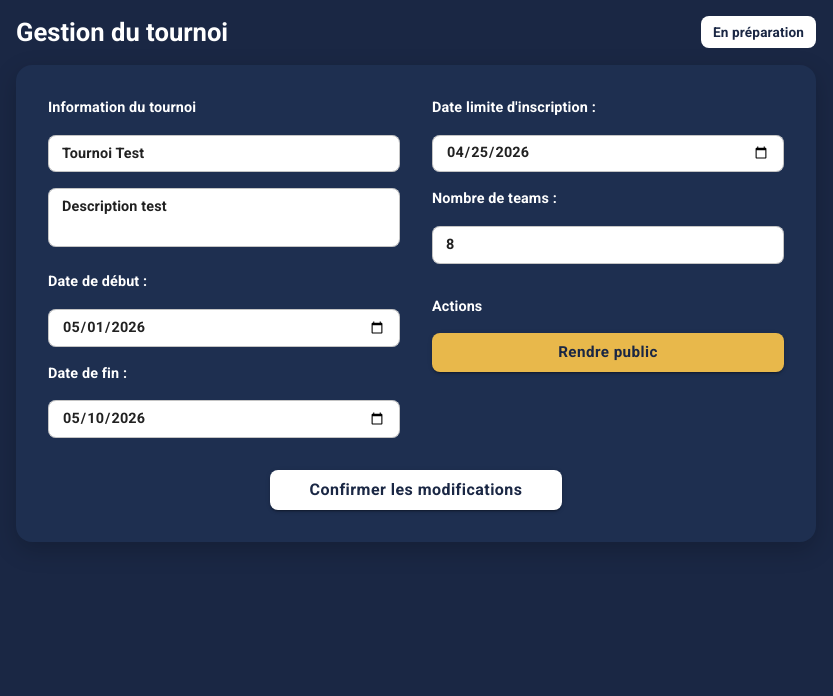
TournamentAdminPage › affiche un message d'erreur si updateTournament échoue
The image size is (833, 696).
Click the button "Confirmer les modifications" at (416,490), box [270,470,562,510]
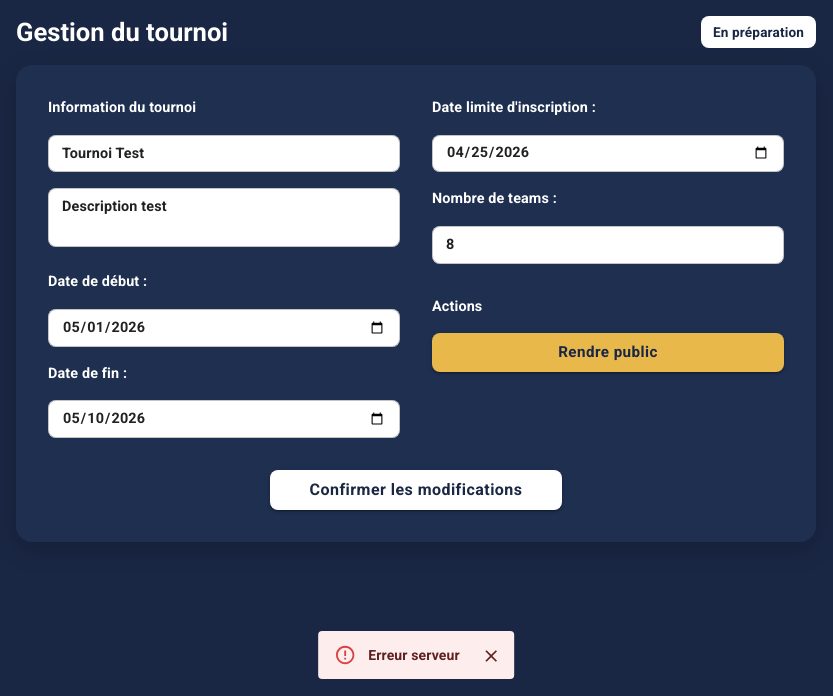
Check: the text "Erreur serveur" is shown, box [368,647,460,663]
